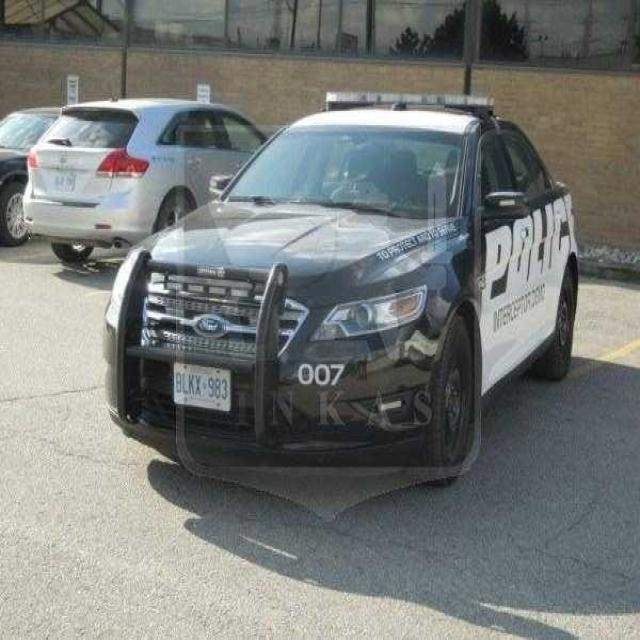firetruck: (100, 84, 584, 495)
